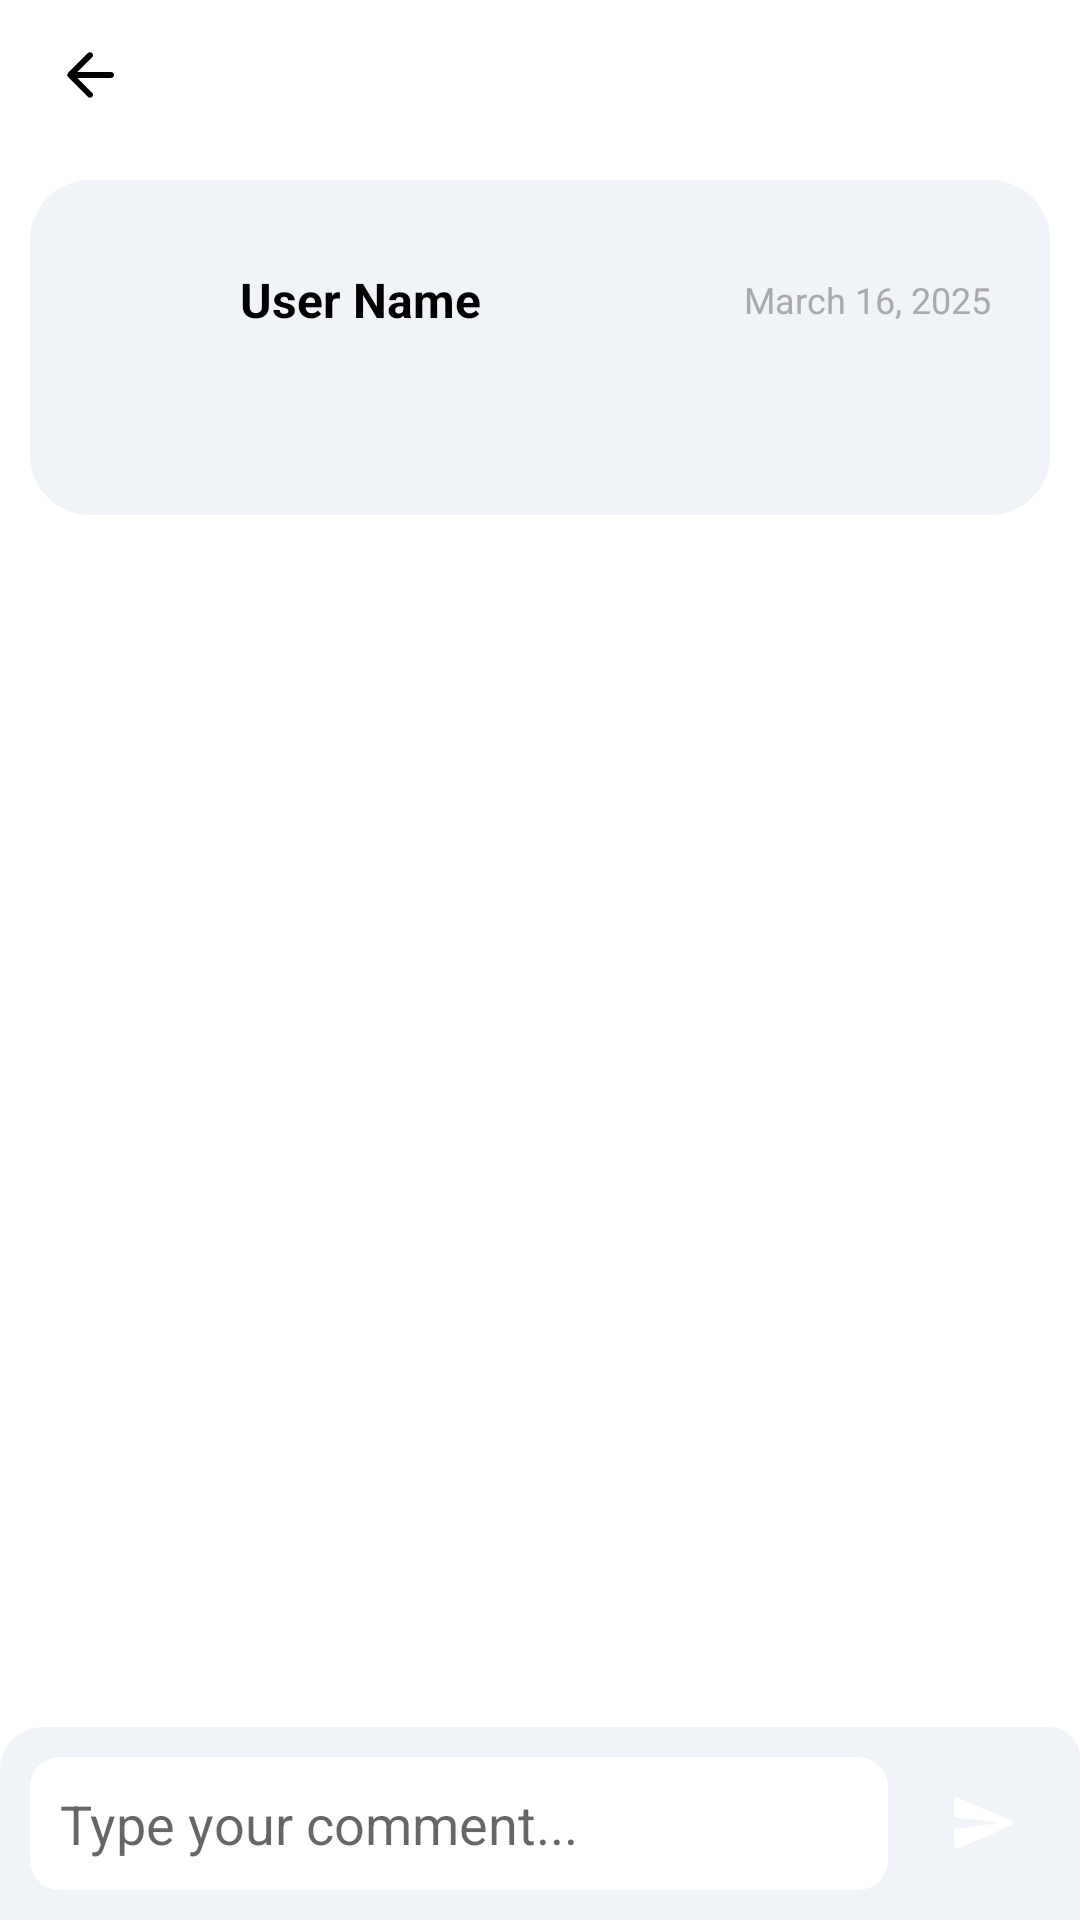

Named icons in this screenshot (1080 × 1920) and their centers, (x,y):
back: (90,75)
